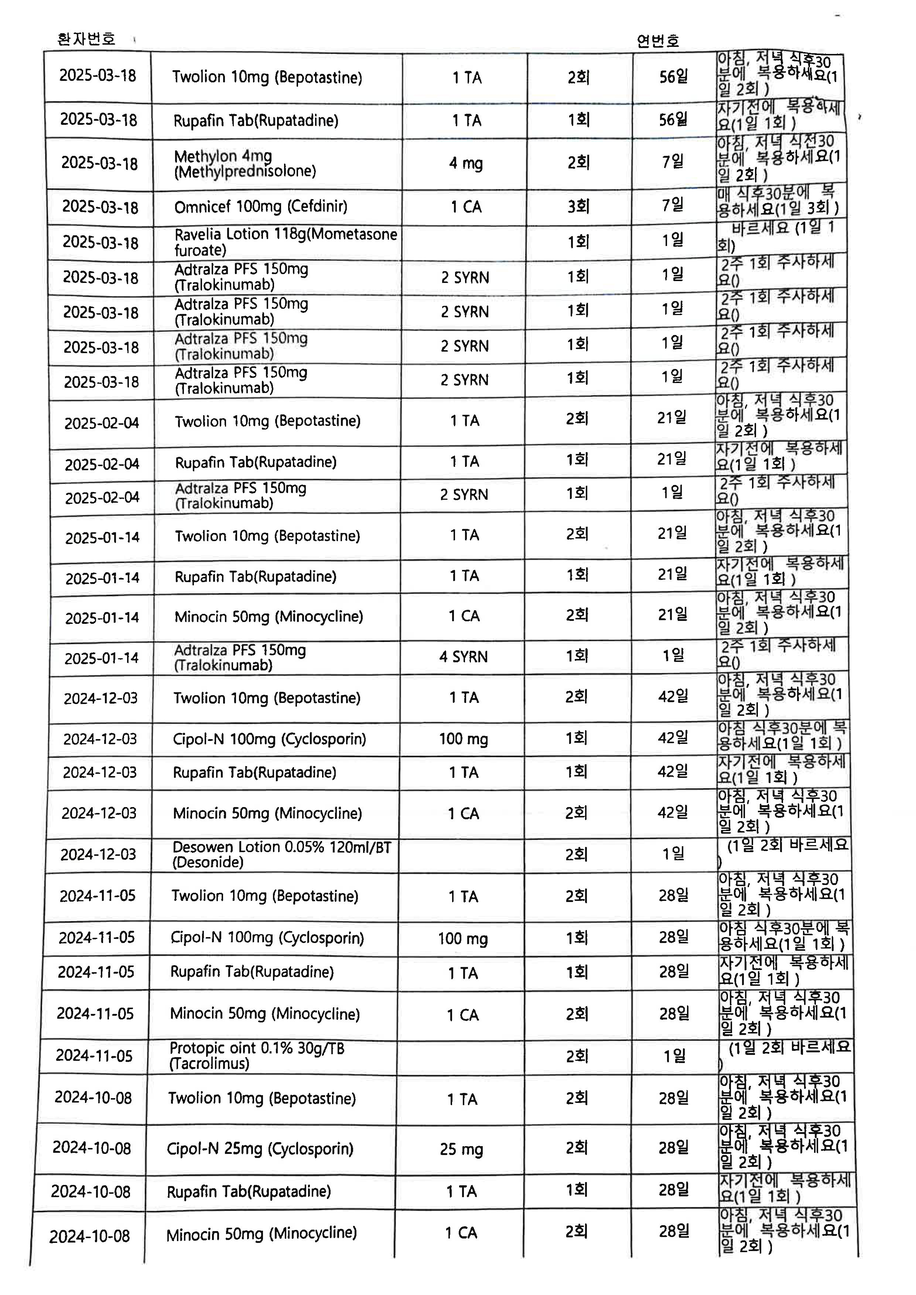row: (28, 1207, 856, 1260), (40, 1074, 854, 1125), (48, 672, 849, 723), (44, 873, 852, 922), (40, 990, 852, 1038), (45, 790, 850, 838), (36, 1125, 854, 1172), (47, 392, 845, 440), (47, 593, 848, 640), (45, 51, 845, 98), (45, 137, 845, 184), (47, 510, 845, 557), (40, 1038, 854, 1076), (45, 184, 845, 221), (42, 920, 851, 956), (31, 1172, 857, 1207), (46, 439, 847, 475), (46, 323, 845, 359), (44, 99, 849, 134), (47, 360, 848, 395), (47, 475, 848, 510), (44, 839, 852, 873), (48, 723, 852, 757), (47, 756, 850, 790), (46, 221, 845, 255), (42, 957, 854, 990), (48, 558, 850, 591), (48, 639, 848, 672), (46, 255, 845, 288), (46, 289, 845, 322)
